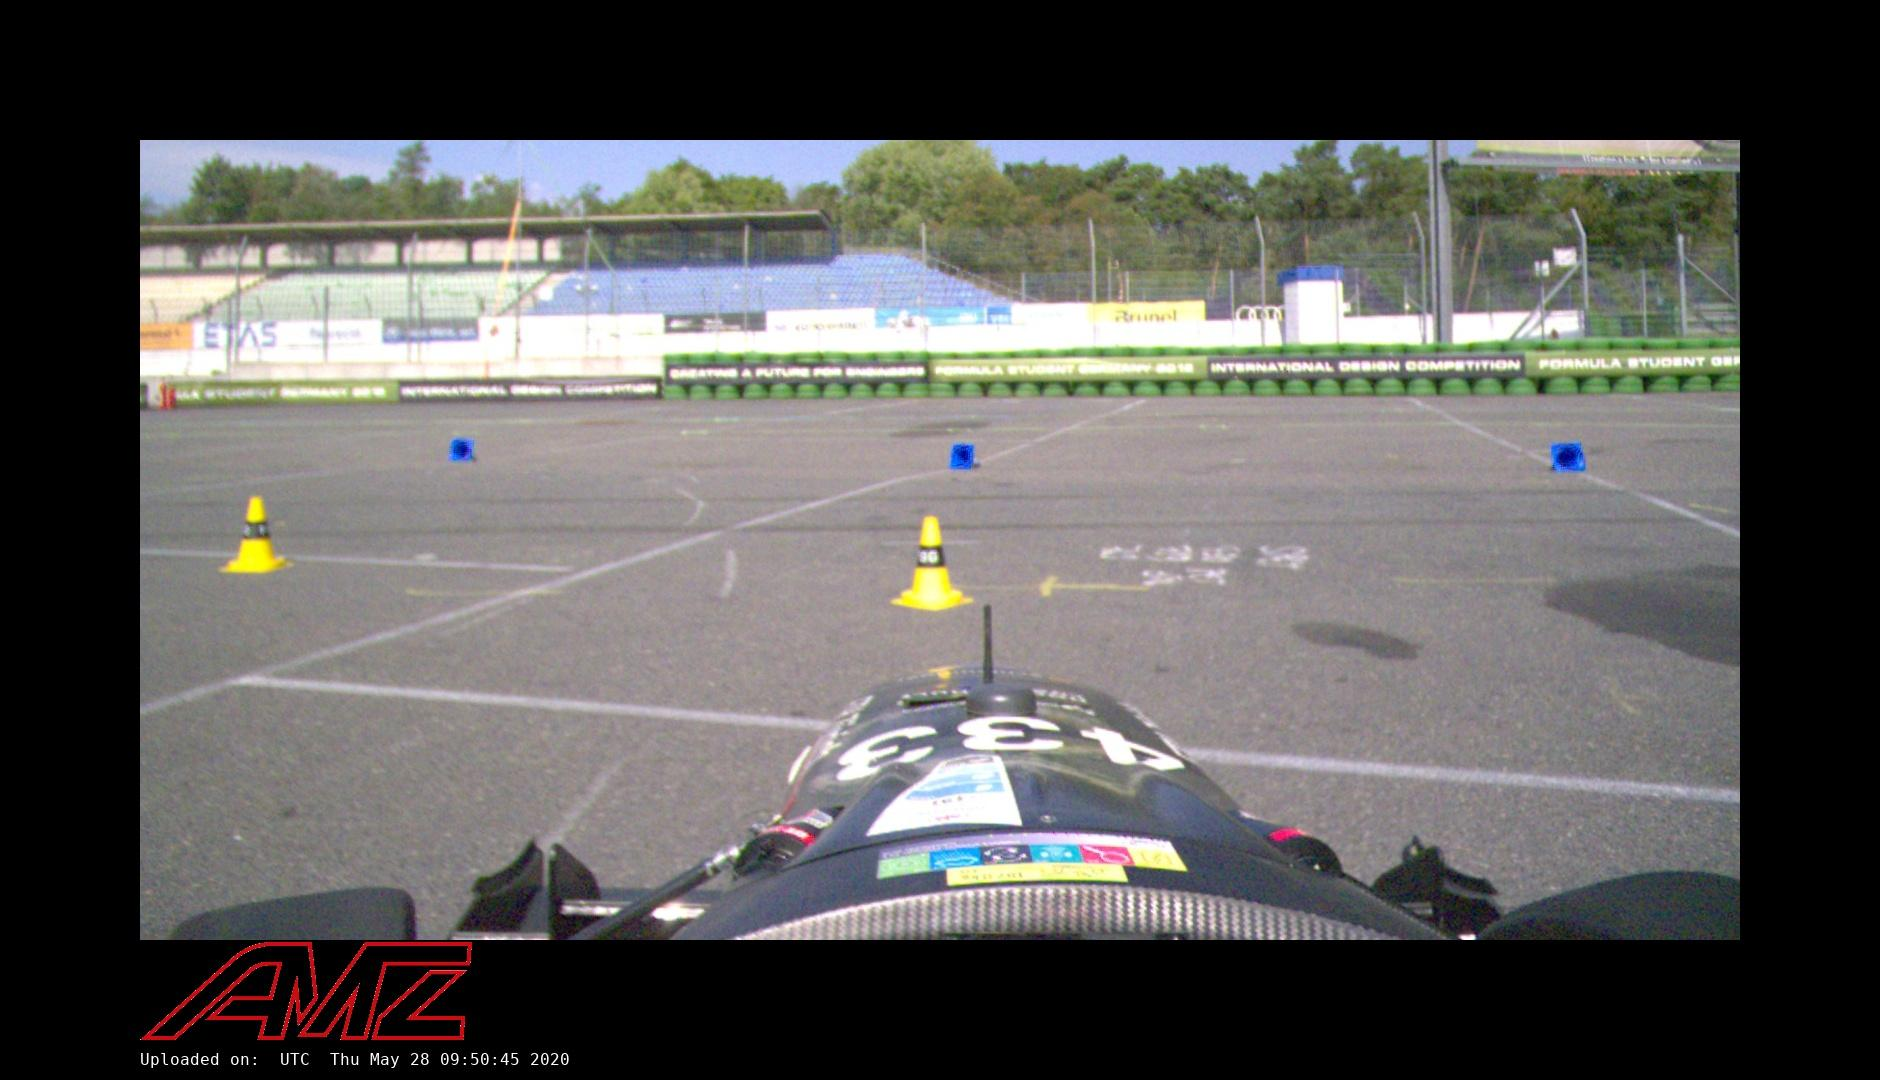blue_cone: (1550, 442, 1586, 473), (949, 443, 981, 469), (448, 437, 475, 462)
yellow_cone: (891, 515, 973, 610), (219, 496, 294, 573)
